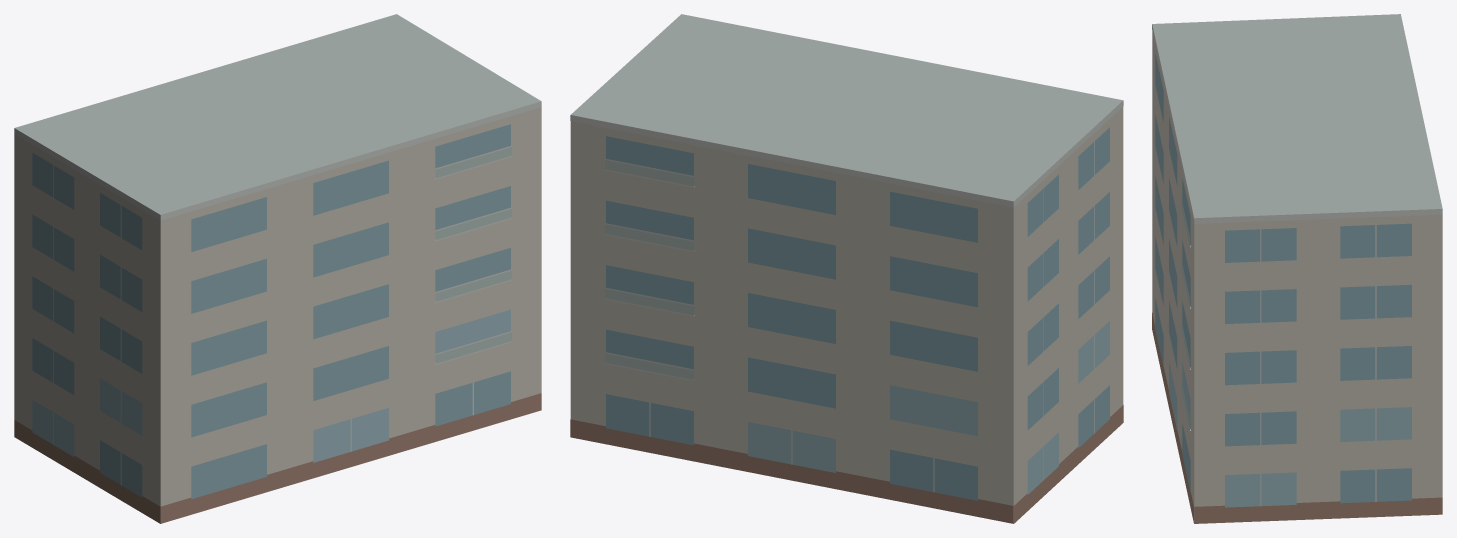
Rendered from survey-upis-32907398.glb.
The picture shows the model from 3 angles, left to right: view 1: azimuth 30°, elevation 25°; view 2: azimuth 150°, elevation 25°; view 3: azimuth 270°, elevation 25°; orthographic projection. The views are drawn at different scales.
Visible parts, largest first — view 1: survey-upis-32907398.tmp; view 2: survey-upis-32907398.tmp; view 3: survey-upis-32907398.tmp.
Boxes of the visible parts, left/top/right/bottom form: survey-upis-32907398.tmp: left=14, top=14, right=541, bottom=523; survey-upis-32907398.tmp: left=570, top=14, right=1123, bottom=523; survey-upis-32907398.tmp: left=1152, top=14, right=1442, bottom=523.
Size of the model in its own units: 18.78 by 13.1 by 11.29.
